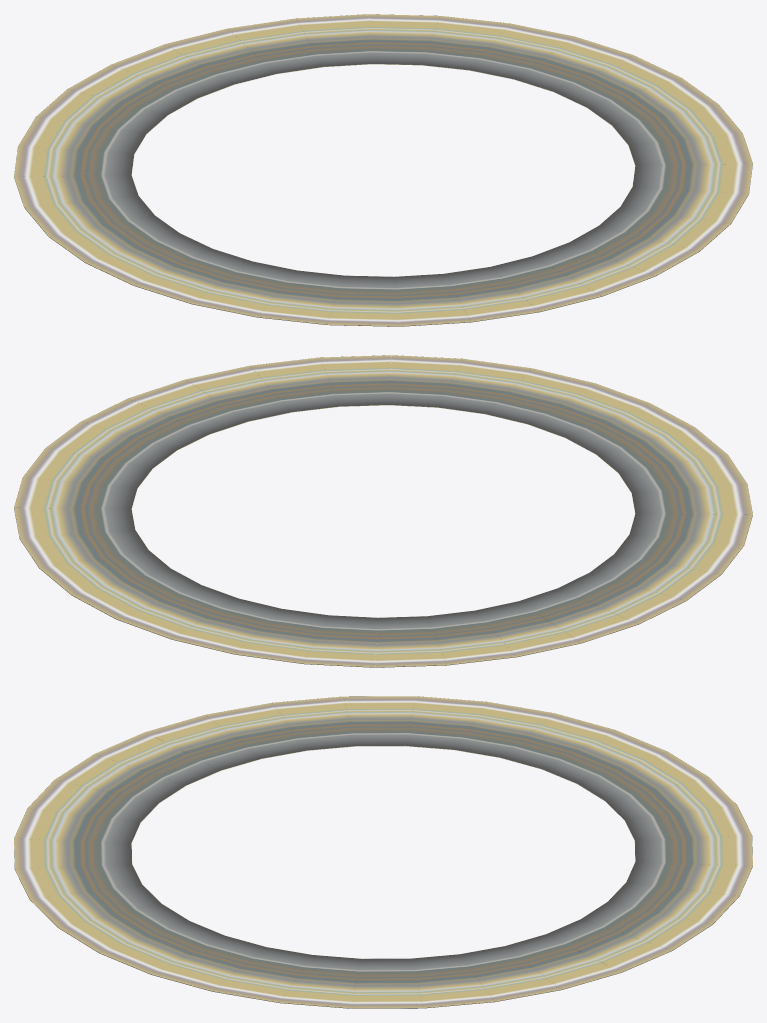
Rendered from SaturnRing.fbx.
3 views of the same model, one above another, from view 1: azimuth 30°, elevation 25°; view 2: azimuth 150°, elevation 25°; view 3: azimuth 270°, elevation 25° (orthographic).
Parts seen in each view (by area): view 1: Ring; view 2: Ring; view 3: Ring.
Boxes of the visible parts, x1,y1,x2,y2 form: Ring: [14, 14, 752, 326]; Ring: [14, 355, 752, 667]; Ring: [14, 696, 752, 1008].
Size of the model in its own units: 219 by 0.1 by 219.
